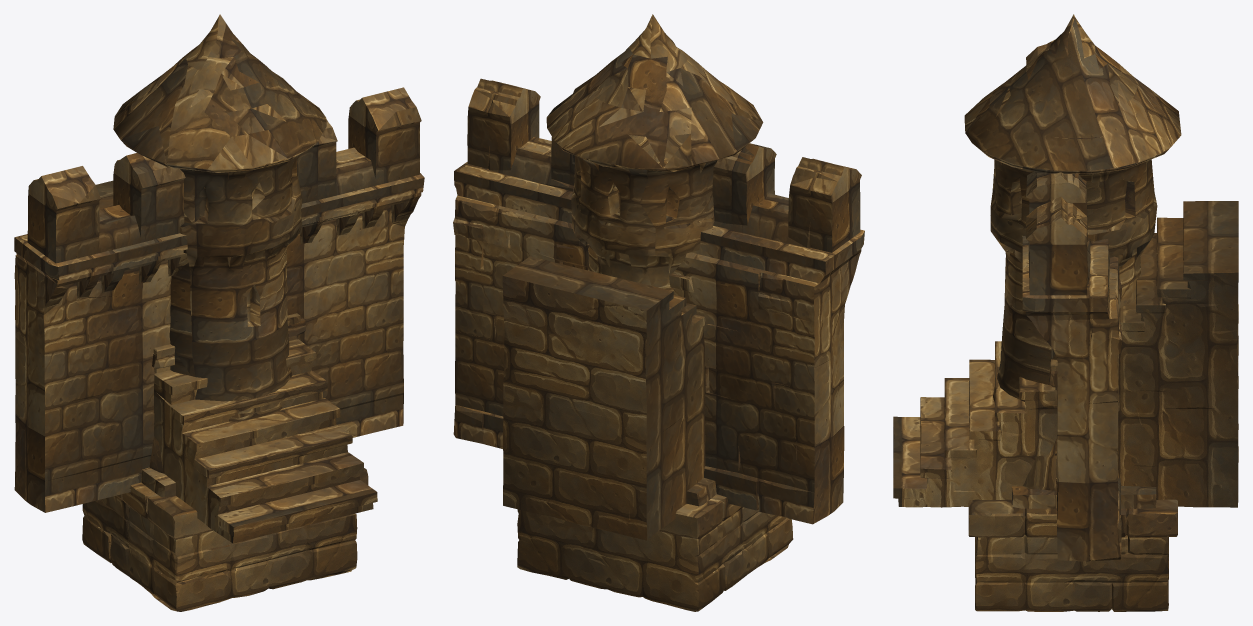
File: castle_modular_blend.glb
3 renders of one model, left to right at view 1: azimuth 30°, elevation 25°; view 2: azimuth 150°, elevation 25°; view 3: azimuth 270°, elevation 25°, orthographic. The views are drawn at different scales.
Parts seen in each view (by area): view 1: wall, tower, stairs, floor, door; view 2: wall, stairs, tower, floor, door; view 3: stairs, tower, wall, floor, door.
Boxes of the visible parts, x1,y1,x2,y2 form: wall: [14, 87, 424, 512]; tower: [113, 14, 326, 473]; stairs: [96, 180, 377, 543]; floor: [82, 468, 368, 611]; door: [141, 317, 305, 497]; wall: [453, 78, 864, 524]; stairs: [502, 256, 705, 540]; tower: [546, 14, 763, 290]; floor: [517, 494, 793, 611]; door: [686, 478, 716, 506]; stairs: [893, 201, 1238, 507]; tower: [964, 14, 1181, 490]; wall: [1022, 39, 1121, 561]; floor: [968, 499, 1177, 611]; door: [1012, 367, 1156, 508].
Bounding box in the file's own units: 3.62 × 5.06 × 2.86.
1 material, 1 textured.
